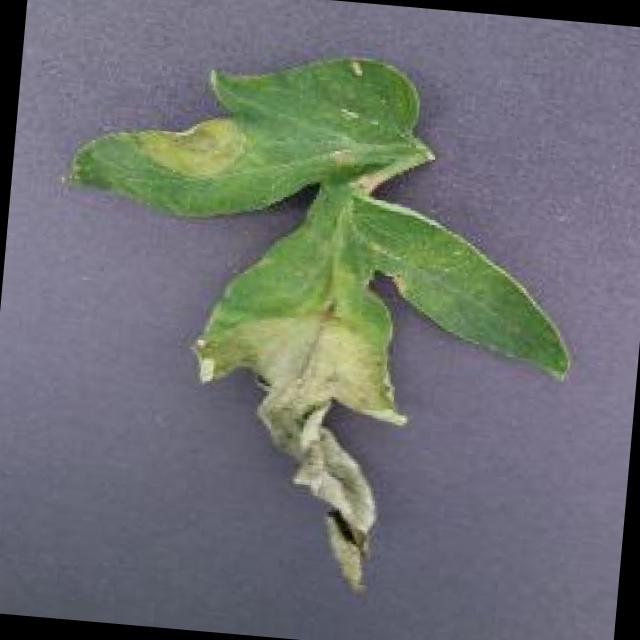Tomato_Late_Blight: (162, 280, 460, 601), (120, 101, 258, 192)
